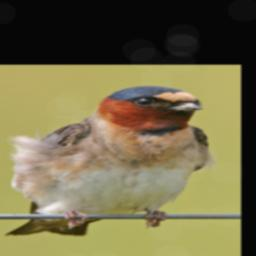Swallow: (4, 85, 216, 237)
